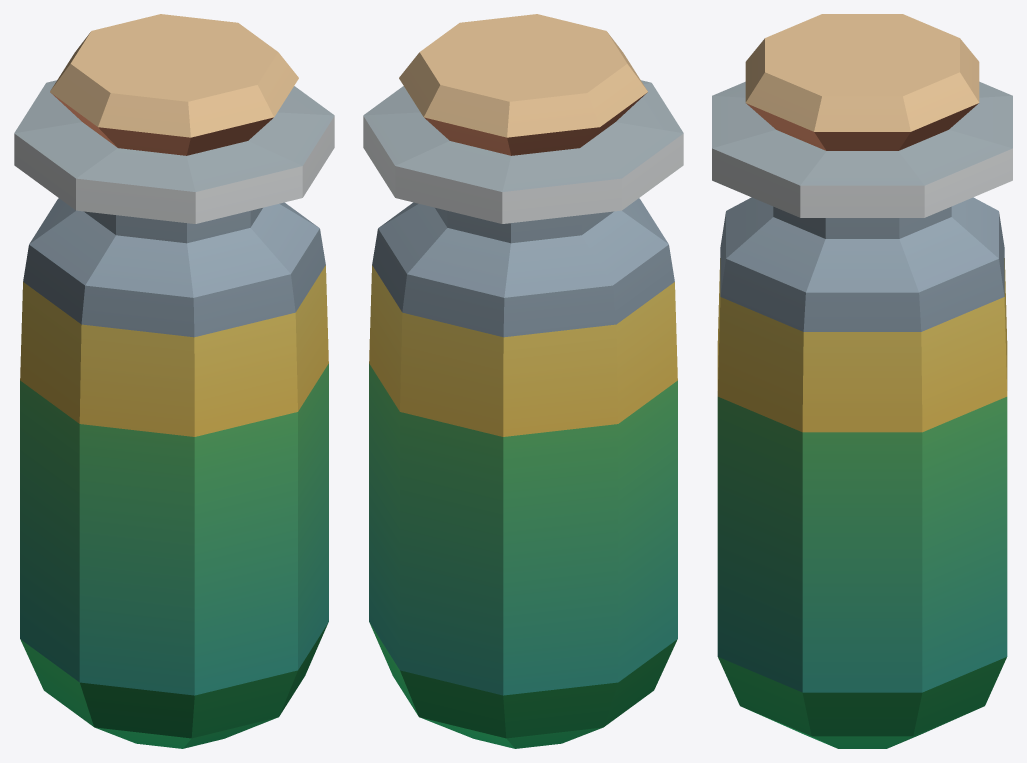
Rendered from source.glb.
3 views of the same model, side by side, from view 1: azimuth 30°, elevation 25°; view 2: azimuth 150°, elevation 25°; view 3: azimuth 270°, elevation 25° (orthographic).
Parts seen in each view (by area): view 1: model; view 2: model; view 3: model.
Part boxes in pixels (x1,y1,x2,y2): model: (14, 14, 334, 748); model: (363, 14, 683, 748); model: (712, 14, 1012, 748).
Bounding box in the file's own units: 0.22 × 0.54 × 0.22.
Materials: 1 (1 with a texture image).
